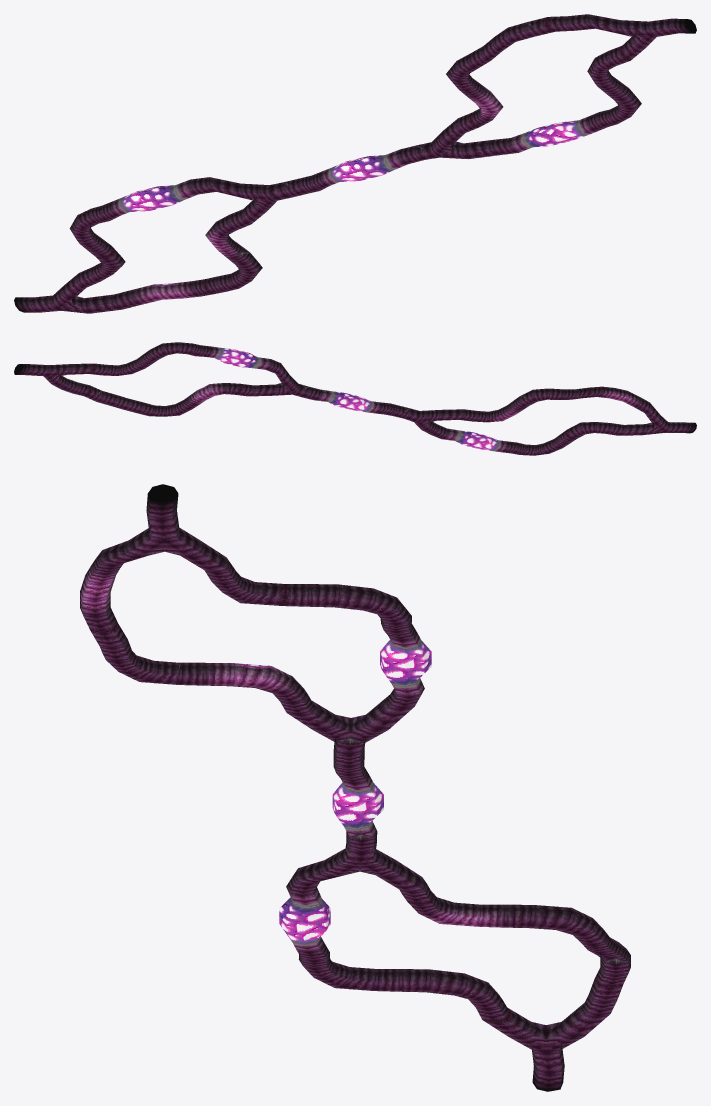
The model's file is AlienCerebral.glb.
3 renders of one model, top to bottom at view 1: azimuth 30°, elevation 25°; view 2: azimuth 150°, elevation 25°; view 3: azimuth 270°, elevation 25°, orthographic. The views are drawn at different scales.
Parts seen in each view (by area): view 1: AlienCerebral_1, AlienCerebral_6, AlienCerebral_4, AlienCerebral_2, AlienCerebral_3, AlienCerebral_5; view 2: AlienCerebral_1, AlienCerebral_6, AlienCerebral_2, AlienCerebral_4, AlienCerebral_3, AlienCerebral_5; view 3: AlienCerebral_1, AlienCerebral_6, AlienCerebral_4, AlienCerebral_2, AlienCerebral_3, AlienCerebral_5.
Part boxes in pixels (left/top/right/bottom): AlienCerebral_1: left=14, top=14, right=693, bottom=313; AlienCerebral_6: left=89, top=16, right=645, bottom=296; AlienCerebral_4: left=133, top=122, right=571, bottom=210; AlienCerebral_2: left=111, top=117, right=596, bottom=215; AlienCerebral_3: left=120, top=120, right=586, bottom=211; AlienCerebral_5: left=156, top=128, right=549, bottom=205; AlienCerebral_1: left=15, top=342, right=696, bottom=455; AlienCerebral_6: left=68, top=363, right=603, bottom=443; AlienCerebral_2: left=206, top=346, right=507, bottom=452; AlienCerebral_4: left=224, top=349, right=489, bottom=448; AlienCerebral_3: left=215, top=347, right=498, bottom=450; AlienCerebral_5: left=240, top=353, right=473, bottom=444; AlienCerebral_1: left=80, top=493, right=630, bottom=1091; AlienCerebral_6: left=83, top=582, right=627, bottom=1037; AlienCerebral_4: left=279, top=652, right=431, bottom=932; AlienCerebral_2: left=287, top=632, right=424, bottom=952; AlienCerebral_3: left=280, top=635, right=431, bottom=944; AlienCerebral_5: left=279, top=674, right=423, bottom=917.
Bounding box in the file's own units: 867 × 30.5 × 357.
Materials: 9 (9 with a texture image).
